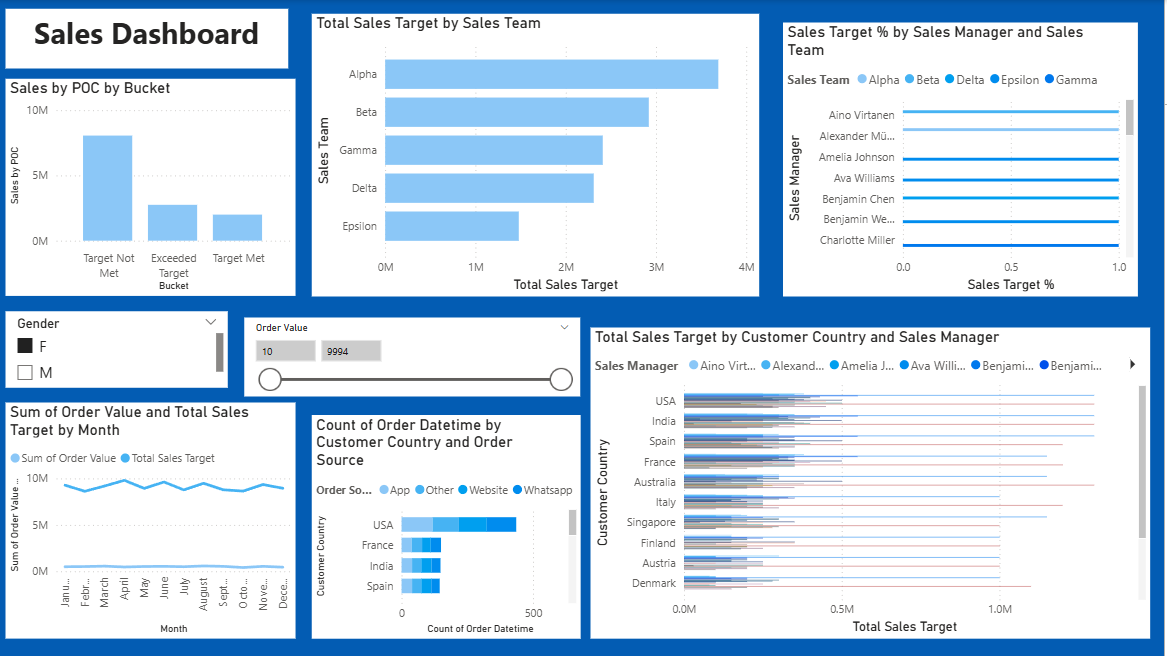

The dashboard page shown, as its layout file describes it:
{"tool":"powerbi","page":{"name":"Page 1","canvas":[1280,720],"ordinal":0},"visuals":[{"type":"clusteredColumnChart","fields":{"Category":["Sales Targets.Bucket"],"Y":["Sales Targets.Sales by POC"]},"box":[8.2,86.4,318.4,238.8],"z":0},{"type":"textbox","box":[8.2,9.6,310.1,65.9],"z":1000},{"type":"clusteredBarChart","fields":{"Category":["Sales Targets.Sales Team"],"Y":["Sales Targets.Total Sales Target"]},"box":[344.4,15.1,491.3,310.1],"z":2000},{"type":"clusteredBarChart","fields":{"Y":["Sales Targets.Sales Target %"],"Category":["Sales Targets.Sales Manager "],"Series":["Sales Targets.Sales Team"]},"box":[861.8,24.7,389.7,300.5],"z":3000},{"type":"slicer","fields":{"Values":["Customers.Gender"]},"box":[8.2,341.7,244.3,83.7],"z":4000},{"type":"slicer","fields":{"Values":["Orders.Order Value"]},"box":[270.3,348.5,369.1,86.4],"z":5000},{"type":"clusteredBarChart","fields":{"Category":["Customers.Customer Country"],"Y":["Sales Targets.Total Sales Target"],"Series":["Sales Targets.Sales Manager "]},"box":[650.4,359.5,614.8,341.7],"z":6000},{"type":"lineChart","fields":{"Y":["Sum(Orders.Order Value)","Sales Targets.Total Sales Target"],"Category":["Orders.Order Datetime.Variation.Date Hierarchy.Month"]},"box":[8.2,441.9,318.4,259.3],"z":7000},{"type":"barChart","fields":{"Category":["Customers.Customer Country"],"Series":["Orders.Order Source"],"Y":["CountNonNull(Orders.Order Datetime)"]},"box":[344.4,455.6,295,245.6],"z":8000}]}

Visuals, with their boxes in screenshot pixels (x1, y1, x2, y2), scaled from the page's 1280x720 canvas onto the 1167x656 screenshot:
clusteredColumnChart - Sales Targets.Bucket x Sales Targets.Sales by POC: bbox=[7, 79, 298, 296]
textbox: bbox=[7, 9, 290, 69]
clusteredBarChart - Sales Targets.Sales Team x Sales Targets.Total Sales Target: bbox=[314, 14, 762, 296]
clusteredBarChart - Sales Targets.Sales Target % x Sales Targets.Sales Manager : bbox=[786, 23, 1141, 296]
slicer - Customers.Gender: bbox=[7, 311, 230, 388]
slicer - Orders.Order Value: bbox=[246, 318, 583, 396]
clusteredBarChart - Customers.Customer Country x Sales Targets.Total Sales Target: bbox=[593, 328, 1154, 639]
lineChart - Sum(Orders.Order Value) x Sales Targets.Total Sales Target: bbox=[7, 403, 298, 639]
barChart - Customers.Customer Country x Orders.Order Source: bbox=[314, 415, 583, 639]
